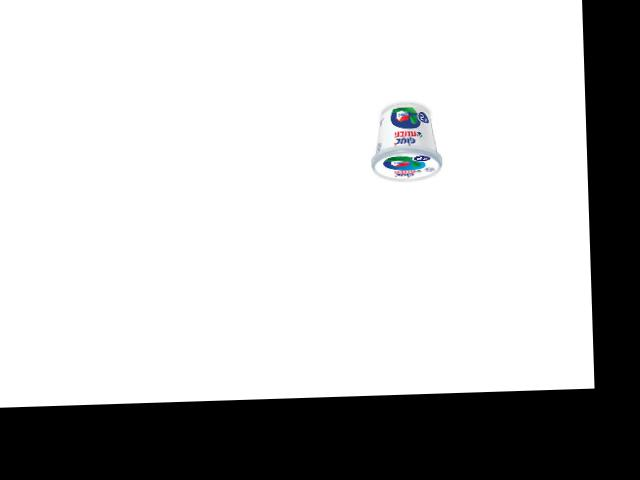cotage: (366, 100, 440, 183)
